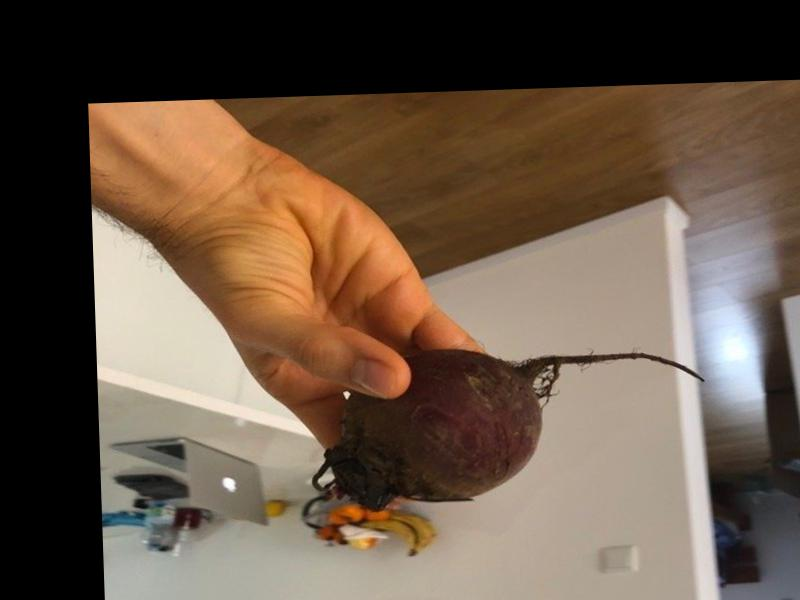Beet: (309, 342, 709, 511)
